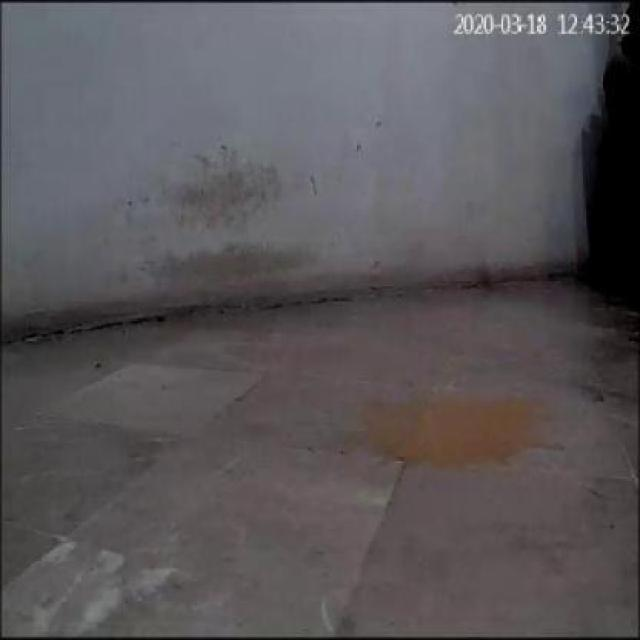spillage: (362, 395, 561, 468)
